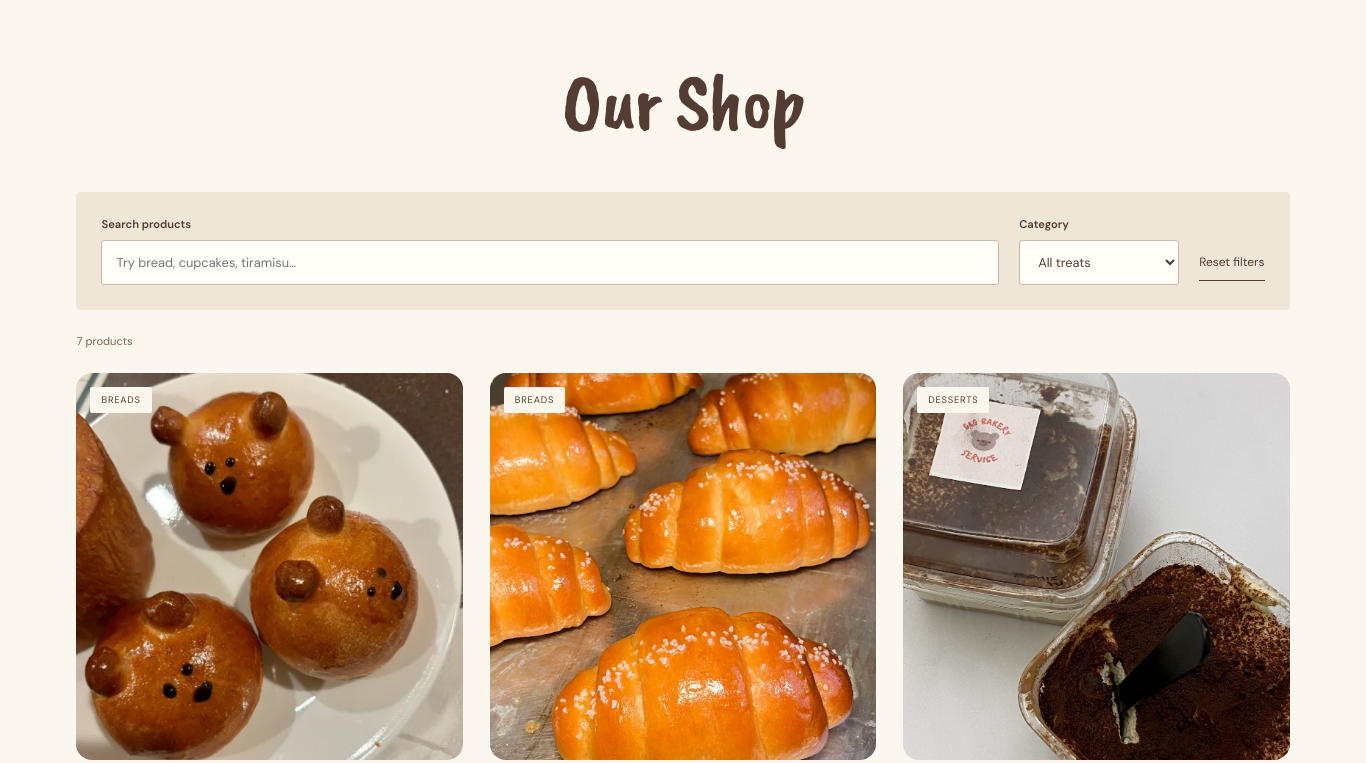
Test: Shop › combines case-insensitive text and category filters, and resets them
Type "BEAR" into the search field labelled "Search products". click: (550, 262)
box: x1=102 y1=240 x2=999 y2=285
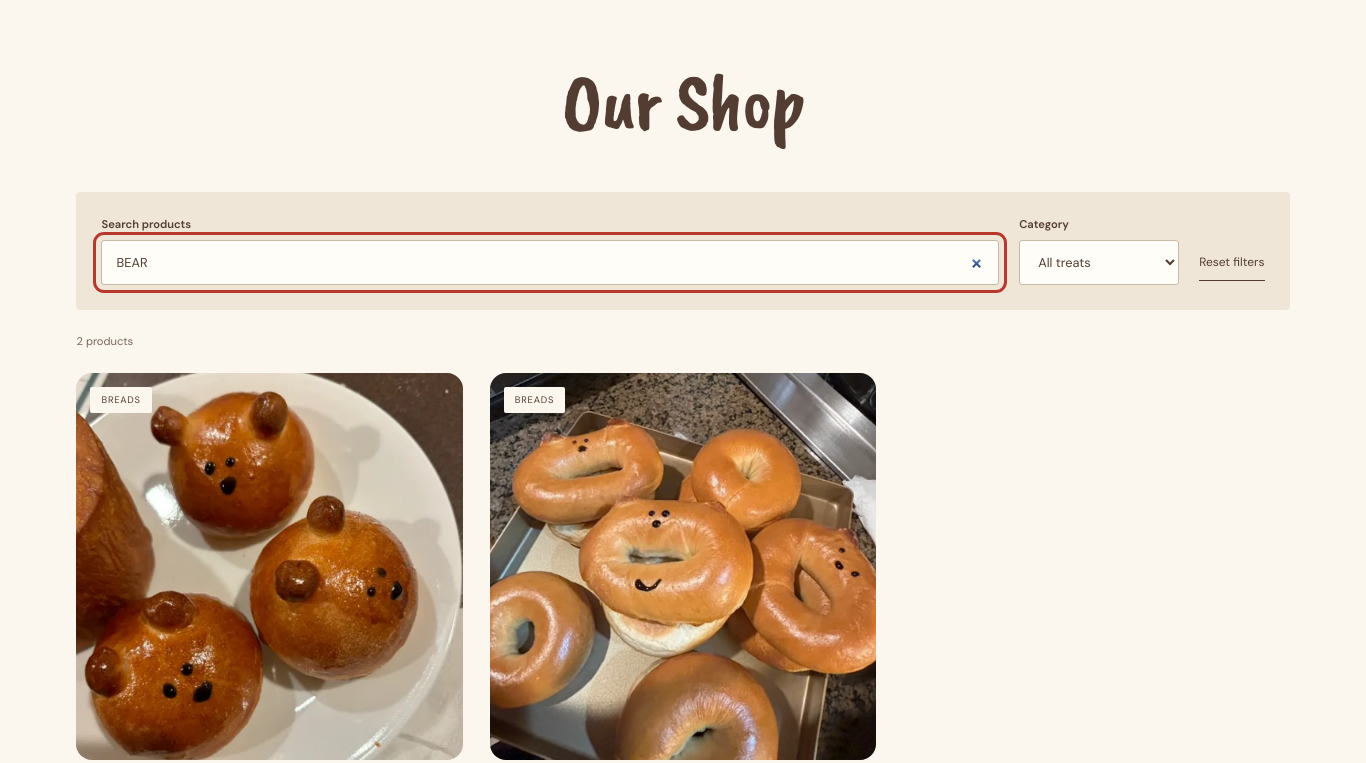
Select "Desserts" in the dropdown labelled "Category". click: (1099, 262)
box: x1=1019 y1=240 x2=1179 y2=285
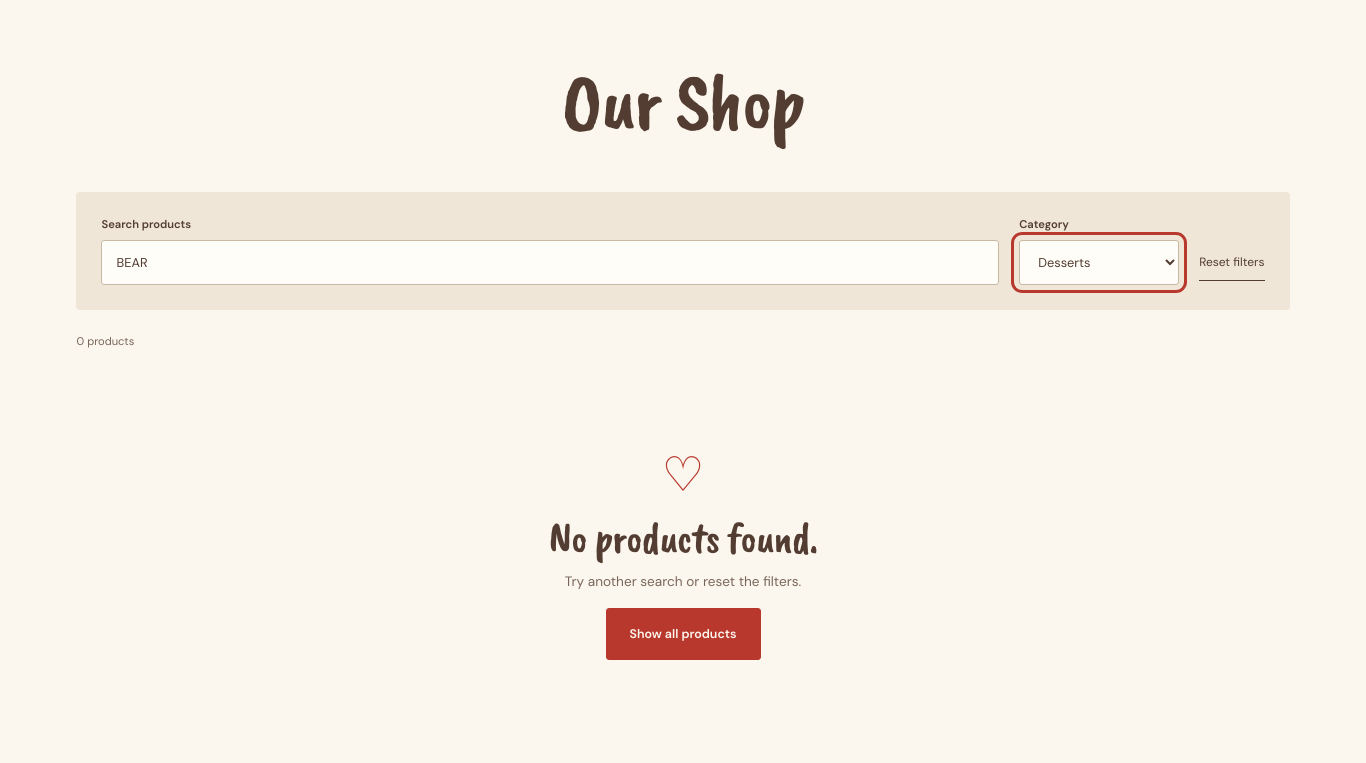
Now the heading "No products found." is shown, box x1=549 y1=511 x2=817 y2=565
Click the button "Reset filters". click: click(1232, 262)
box: x1=1199 y1=244 x2=1264 y2=281
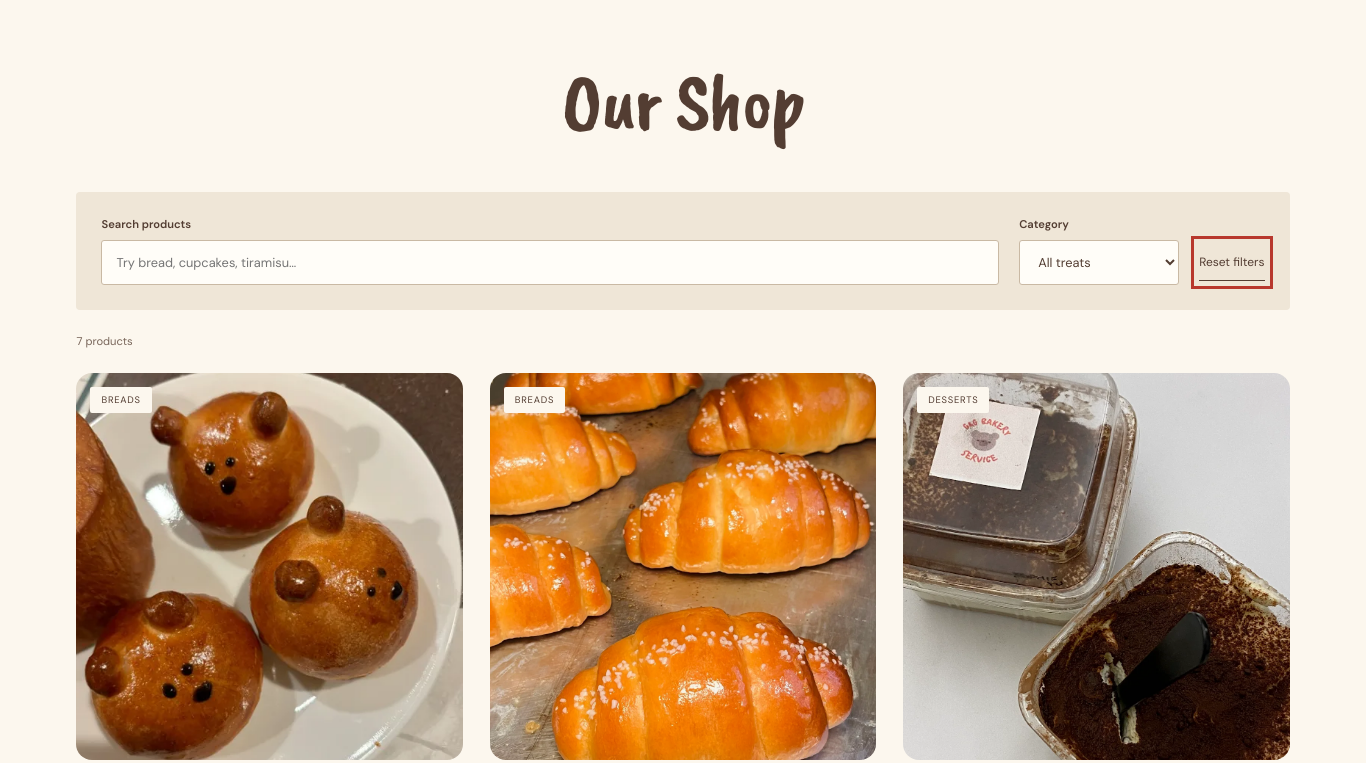
Now the search field labelled "Search products" is empty, box x1=102 y1=240 x2=999 y2=285
